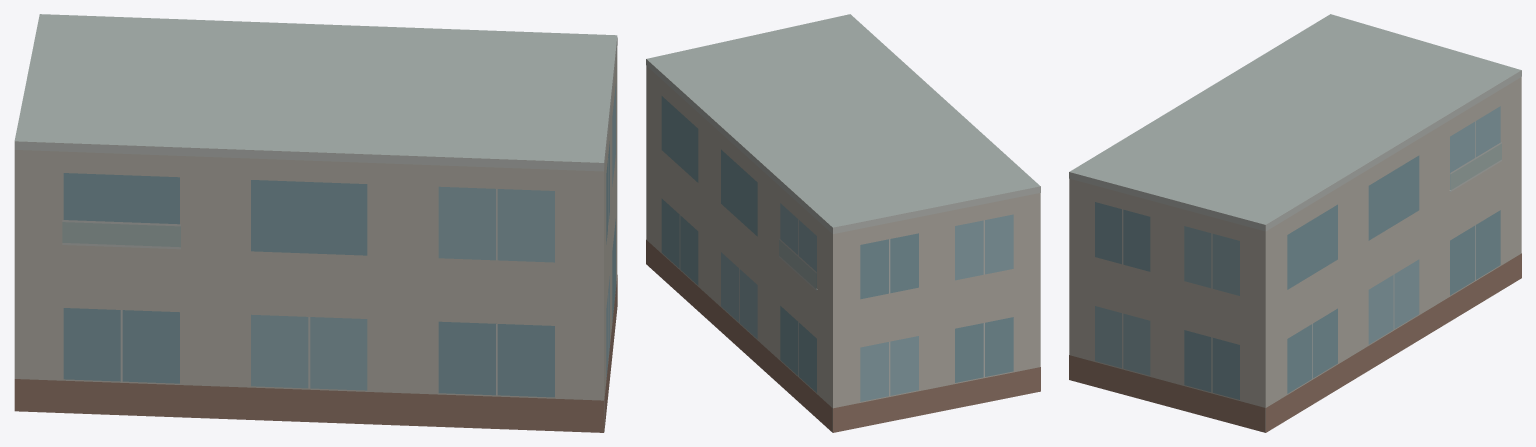
File: survey-upis-32634959.glb
3 views of the same model, side by side, from view 1: azimuth 30°, elevation 25°; view 2: azimuth 150°, elevation 25°; view 3: azimuth 270°, elevation 25° (orthographic). The views are drawn at different scales.
Visible parts, largest first — view 1: survey-upis-32634959.tmp; view 2: survey-upis-32634959.tmp; view 3: survey-upis-32634959.tmp.
Part boxes in pixels (<box>): survey-upis-32634959.tmp: <box>14,14,617,432</box>; survey-upis-32634959.tmp: <box>646,14,1040,432</box>; survey-upis-32634959.tmp: <box>1069,14,1521,432</box>.
Bounding box in the file's own units: 16.76 × 7.7 × 15.2.
